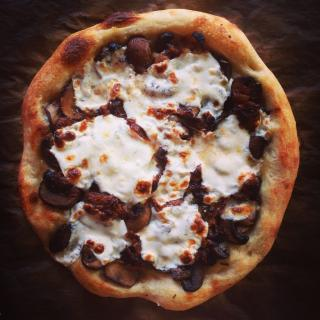Cheese: (52, 50, 273, 265)
Pizza: (13, 10, 304, 320)
